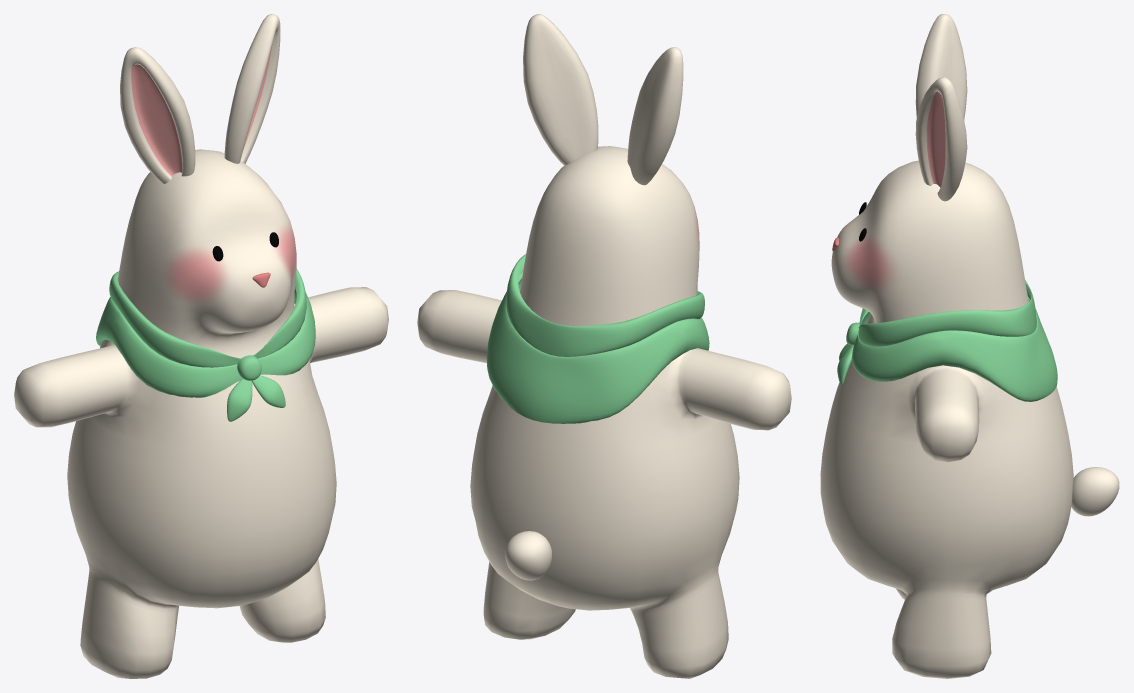
Rendered from Rabbit.fbx.
3 renders of one model, left to right at view 1: azimuth 30°, elevation 25°; view 2: azimuth 150°, elevation 25°; view 3: azimuth 270°, elevation 25°, orthographic. The views are drawn at different scales.
Parts seen in each view (by area): view 1: Corpo, Cube.002, Orelhas; view 2: Corpo, Cube.002, Orelhas, Cube.004; view 3: Corpo, Cube.002, Orelhas, Cube.004.
Boxes of the visible parts, <box> form: Corpo: <box>14,149,388,678</box>; Cube.002: <box>96,269,315,421</box>; Orelhas: <box>120,14,280,183</box>; Corpo: <box>417,146,791,678</box>; Cube.002: <box>486,254,709,423</box>; Orelhas: <box>523,14,683,185</box>; Cube.004: <box>505,531,551,580</box>; Corpo: <box>820,160,1073,678</box>; Cube.002: <box>837,280,1057,401</box>; Orelhas: <box>915,14,967,201</box>; Cube.004: <box>1071,467,1119,516</box>.
Bounding box in the file's own units: 140 × 229 × 105.
6 materials, 2 textured.
